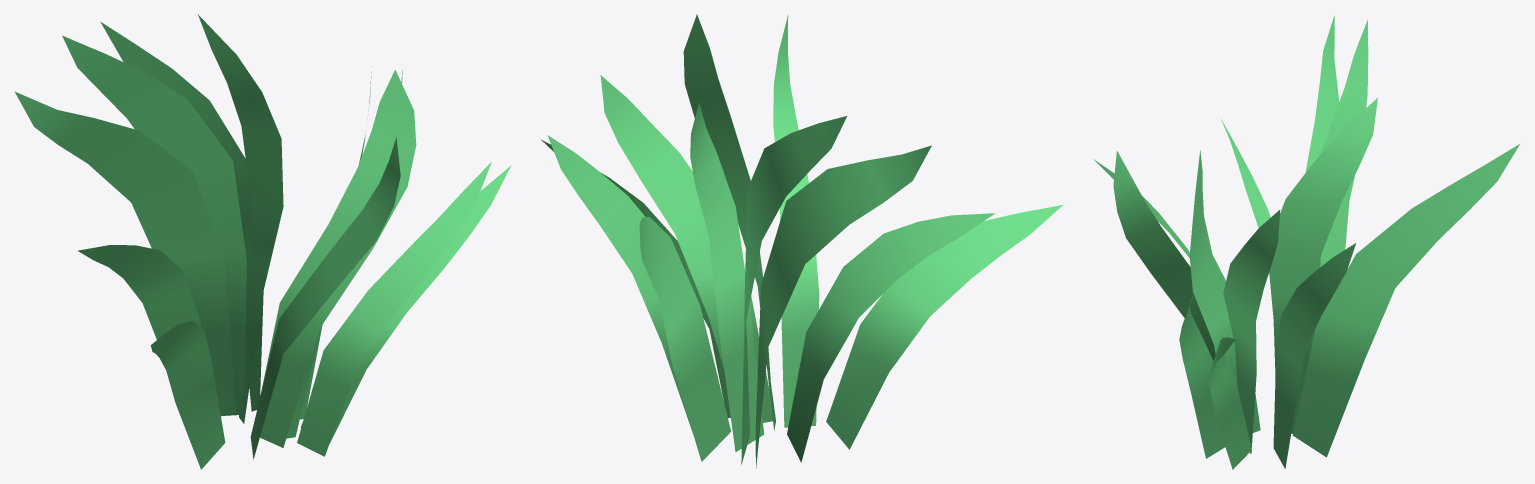
The model's file is Grass02.fbx.
3 views of the same model, side by side, from view 1: azimuth 30°, elevation 25°; view 2: azimuth 150°, elevation 25°; view 3: azimuth 270°, elevation 25° (orthographic). The views are drawn at different scales.
Visible parts, largest first — view 1: Grass02_LOD0; view 2: Grass02_LOD0; view 3: Grass02_LOD0.
Boxes of the visible parts, <box> form: Grass02_LOD0: <box>14,14,511,469</box>; Grass02_LOD0: <box>541,14,1062,468</box>; Grass02_LOD0: <box>1093,15,1519,469</box>.
Size of what is drawn, in the model's own units: 112 by 97.36 by 104.
Materials: 1 (1 with a texture image).
